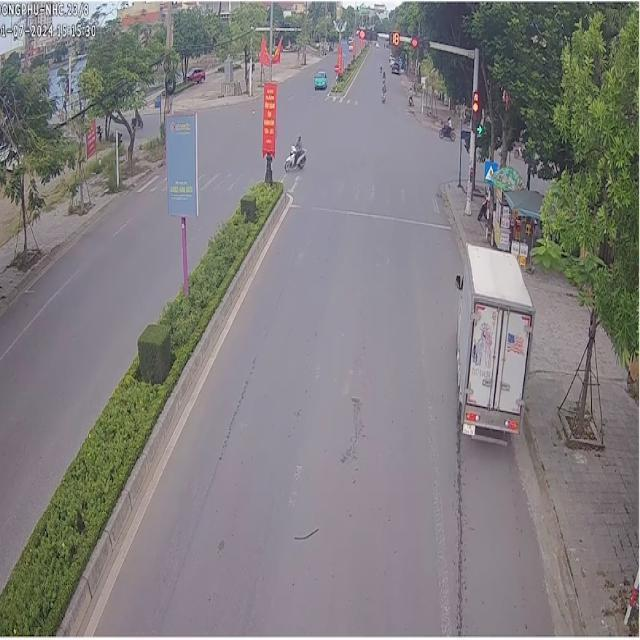car: (454, 242, 533, 442)
motobike: (283, 132, 304, 170)
red_light: (469, 88, 479, 131), (356, 24, 376, 39)
stop_line: (287, 202, 453, 228)
yellow_light: (382, 31, 387, 36)
